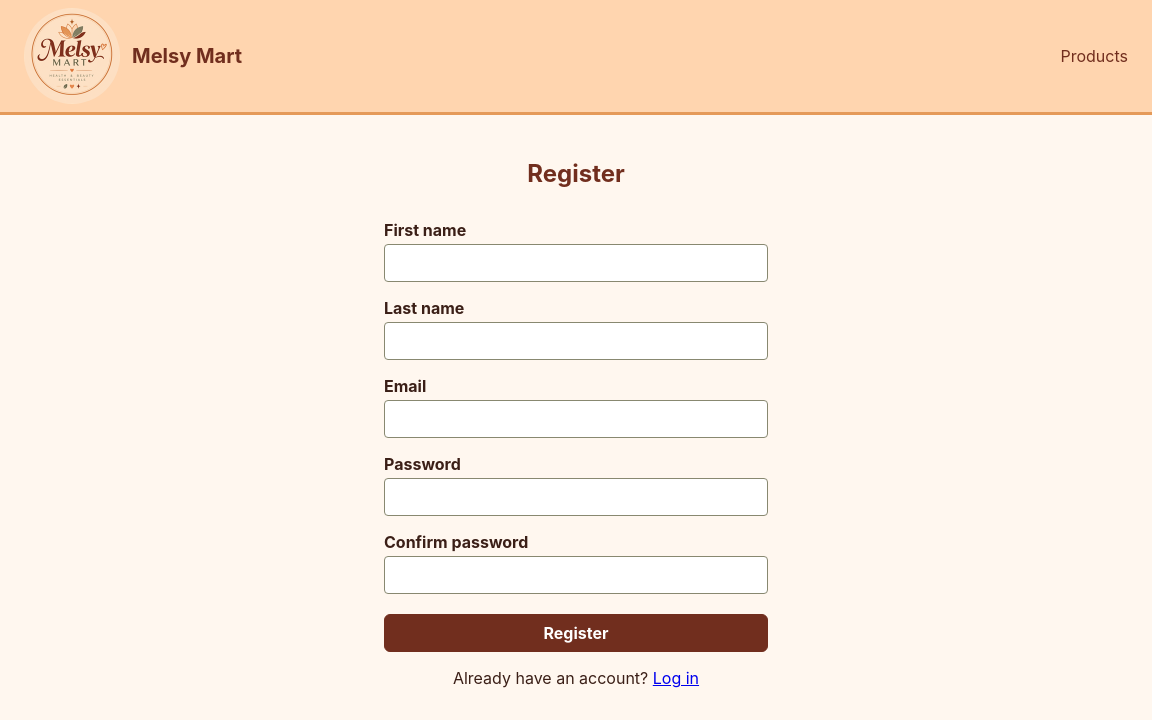
Test case: registers with exactly the four API fields, then shows the Products page
Type "Ada" into the field labelled "First name". click: [576, 263]
box: [384,244,768,282]
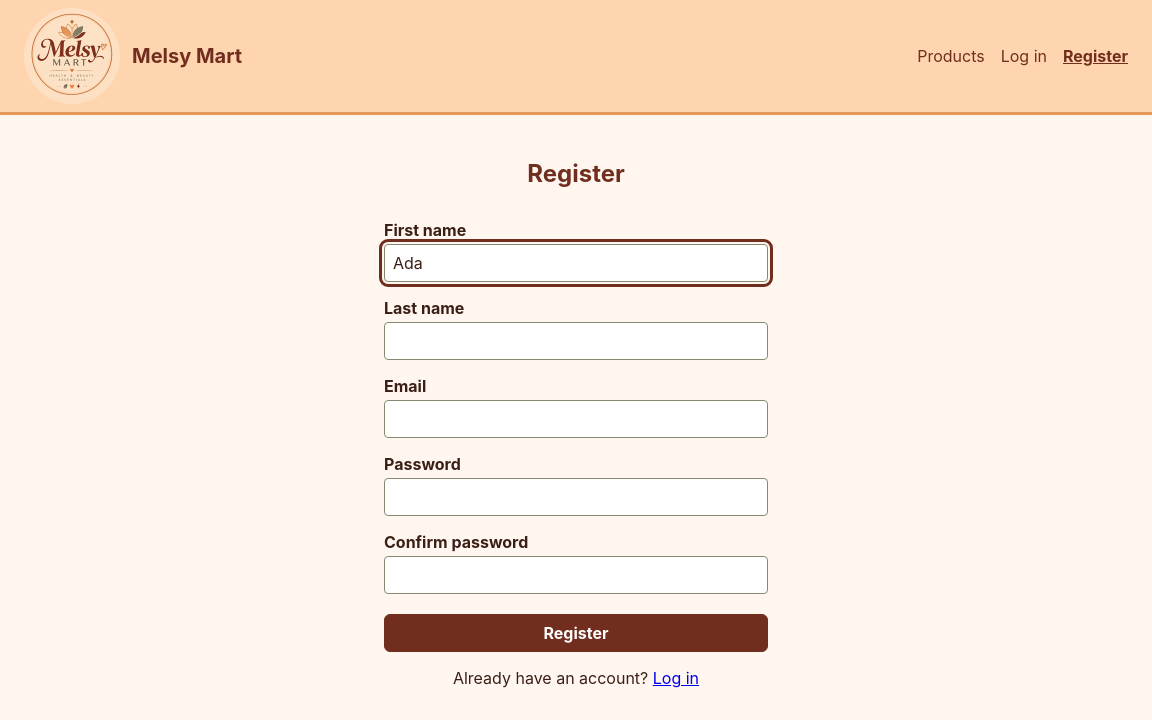
Type "Lovelace" into the field labelled "Last name". click: [576, 341]
box: [384,322,768,360]
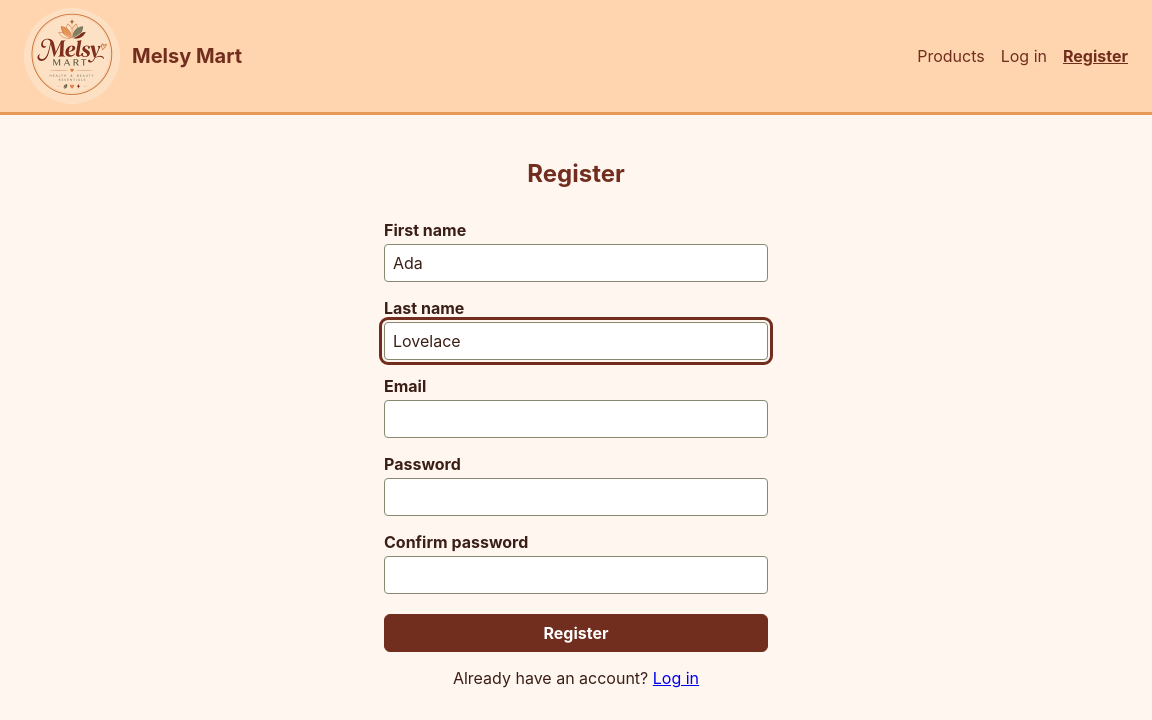
Type "ada@example.com" into the field labelled "Email". click: [576, 419]
box: [384,400,768,438]
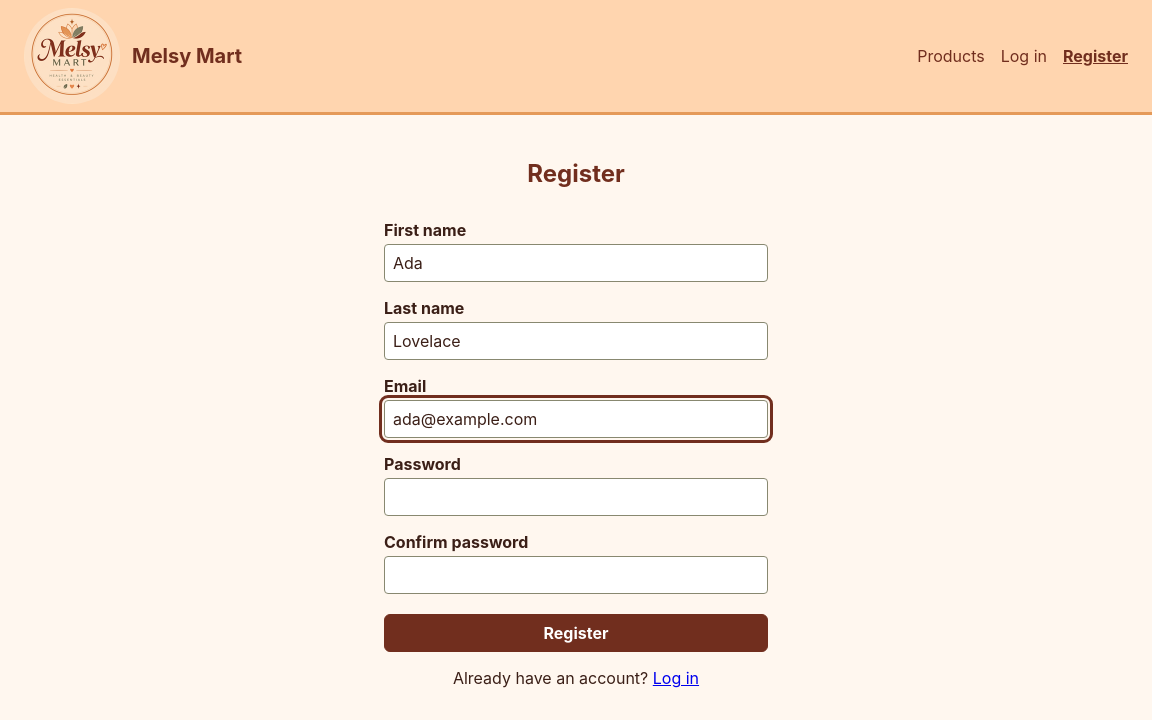
Type "correct-horse-battery" into the password field labelled "Password". click: [576, 497]
box: [384,478,768,516]
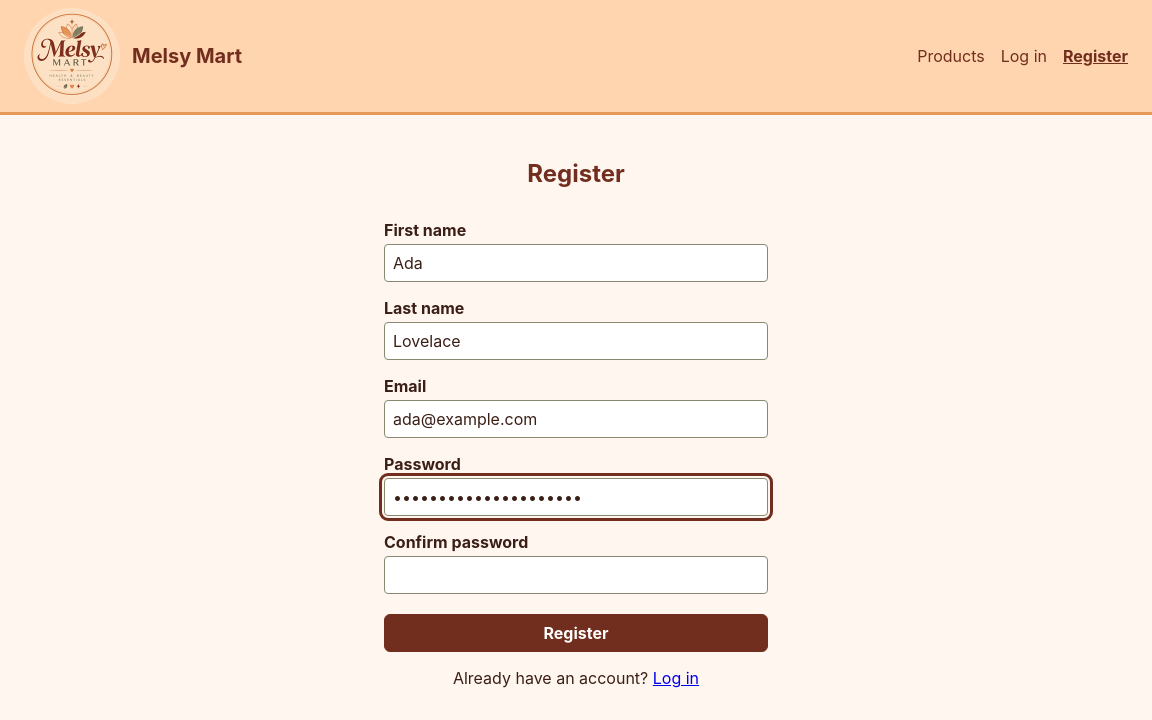
Type "correct-horse-battery" into the password field labelled "Confirm password". click: [576, 575]
box: [384,556,768,594]
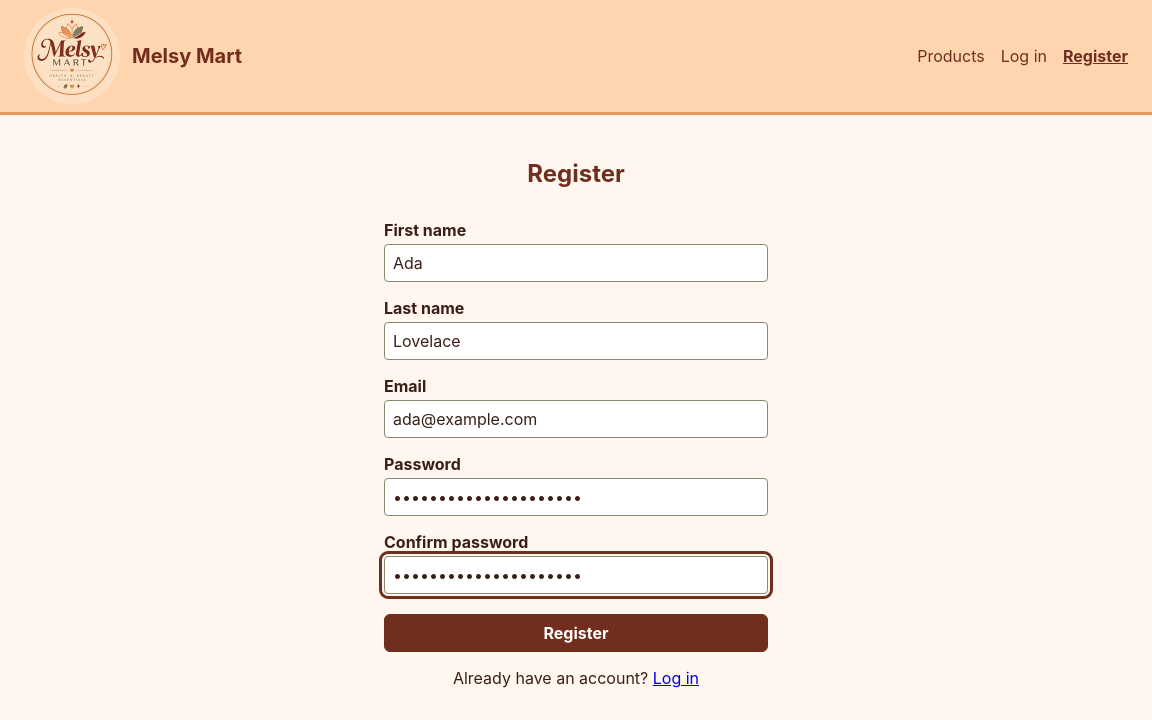
Click the button "Register". click: [576, 633]
box: [384,614,768,652]
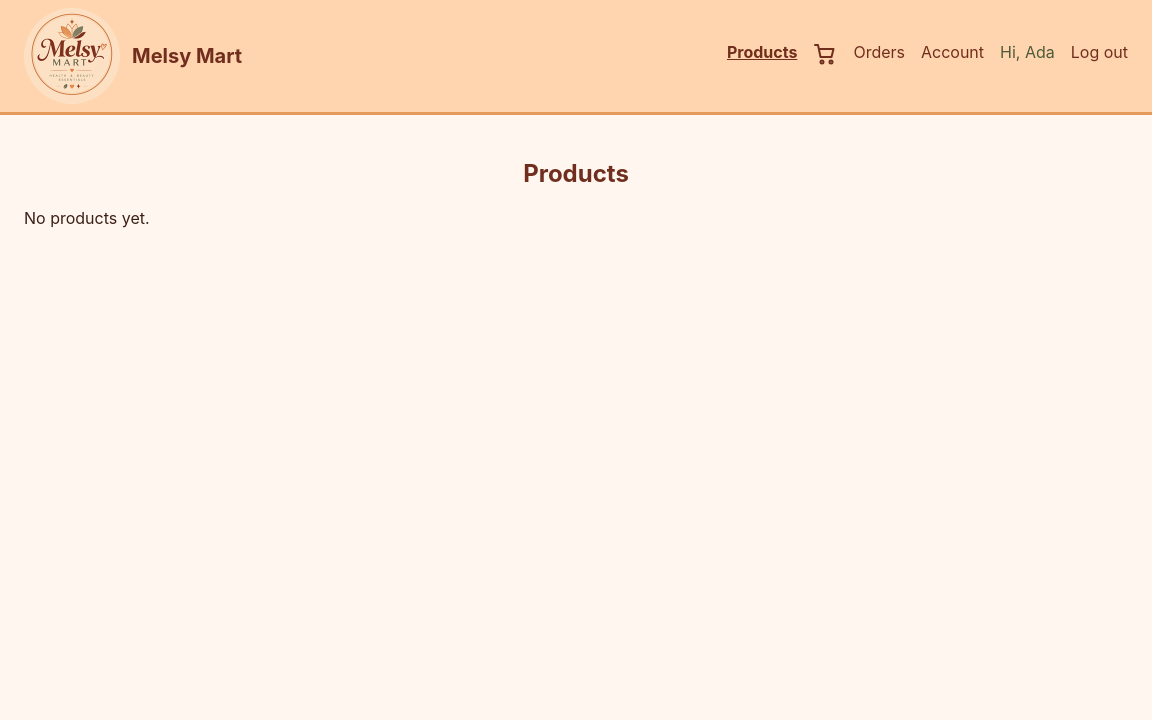
Expected: the heading "Products" is shown, [523,159,629,188]
